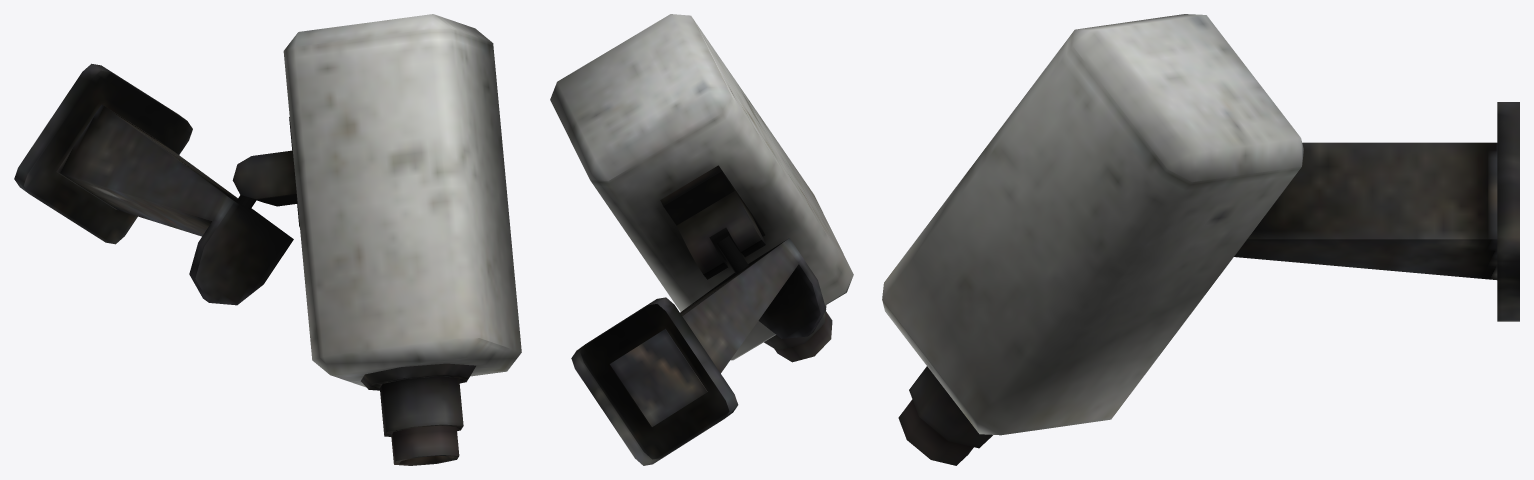
Rendered from CCTVCamera_Broken.FBX.
3 views of the same model, side by side, from view 1: azimuth 30°, elevation 25°; view 2: azimuth 150°, elevation 25°; view 3: azimuth 270°, elevation 25° (orthographic). The views are drawn at different scales.
Parts seen in each view (by area): view 1: CCTVCamera_Broken; view 2: CCTVCamera_Broken; view 3: CCTVCamera_Broken.
Part boxes in pixels (left/top/right/bottom): CCTVCamera_Broken: left=14, top=14, right=521, bottom=465; CCTVCamera_Broken: left=550, top=14, right=853, bottom=465; CCTVCamera_Broken: left=882, top=14, right=1519, bottom=465.
Size of the model in its own units: 22.28 by 25.34 by 31.28.
